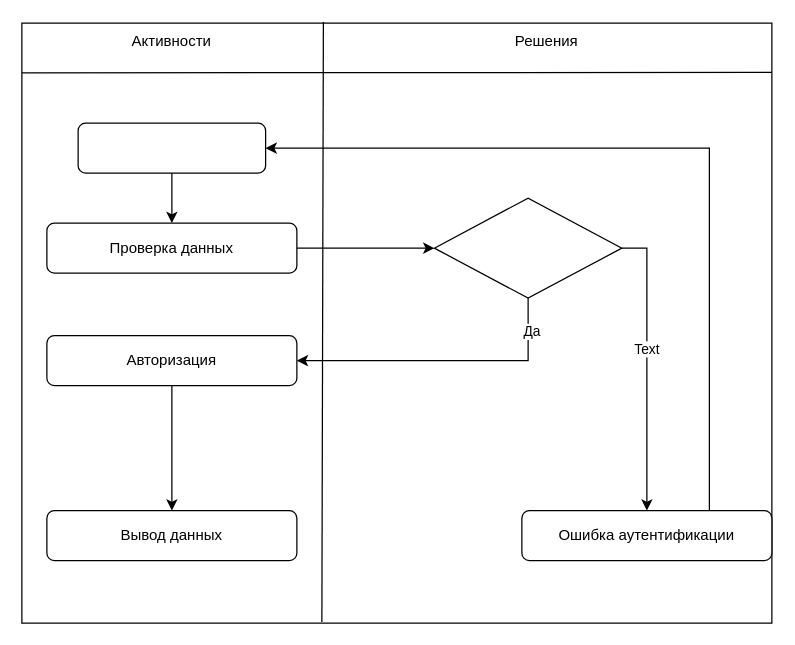
This 795x645 diagram has some shape labels left out. The shapes that lost their labels are listed below. From the top down, each one's centre as x and y in pixels, then its label:
the point at 171,147: Ввод данных
the point at 527,247: Правильные данные?
